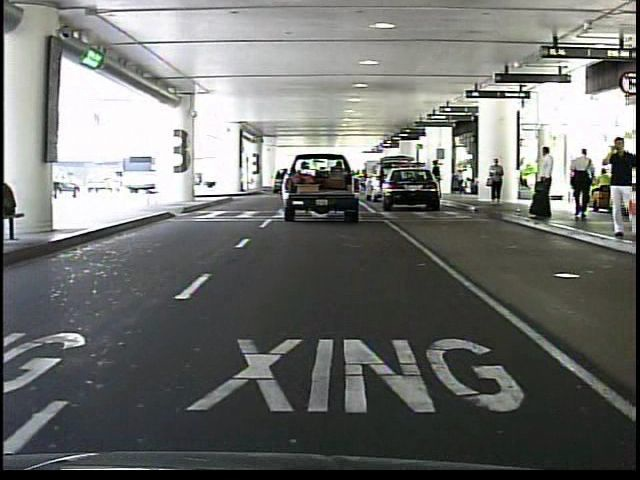person: (601, 137, 638, 246), (567, 145, 597, 222), (530, 143, 558, 223), (485, 155, 509, 210), (431, 158, 446, 202)
